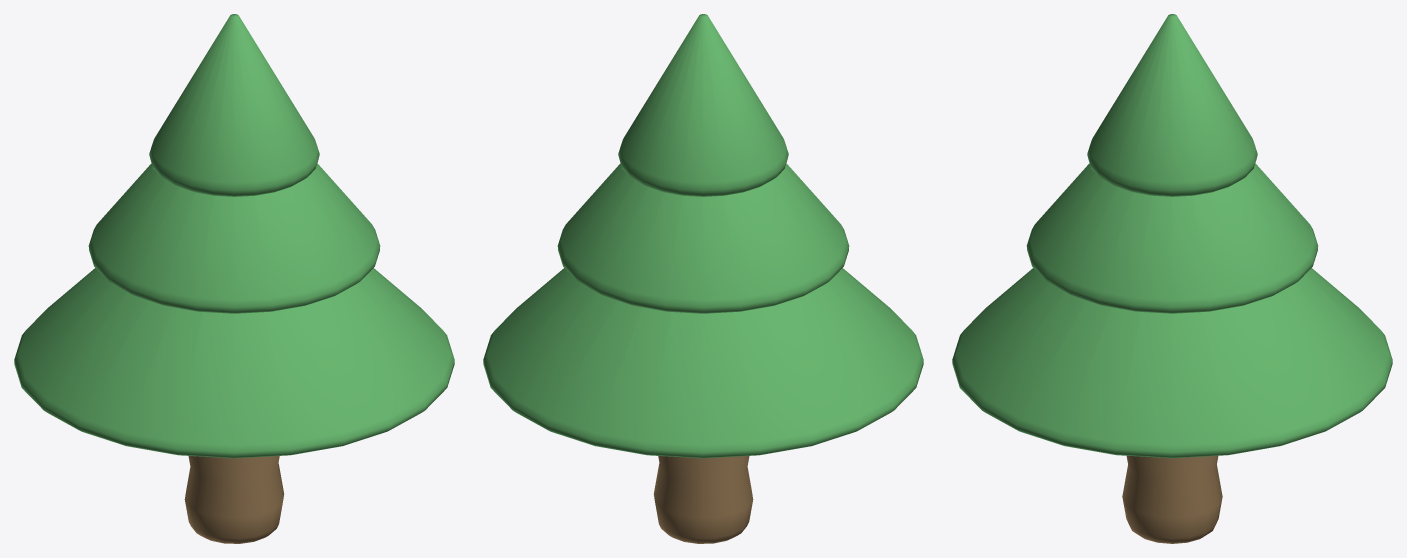
File: tree.glb
The picture shows the model from 3 angles, left to right: view 1: azimuth 30°, elevation 25°; view 2: azimuth 150°, elevation 25°; view 3: azimuth 270°, elevation 25°; orthographic projection.
Parts seen in each view (by area): view 1: tree; view 2: tree; view 3: tree.
Part boxes in pixels (x1,y1,x2,y2): tree: (14, 14, 454, 543); tree: (483, 14, 923, 543); tree: (952, 14, 1392, 543).
Bounding box in the file's own units: 0.9921 × 1.28 × 0.9921.
